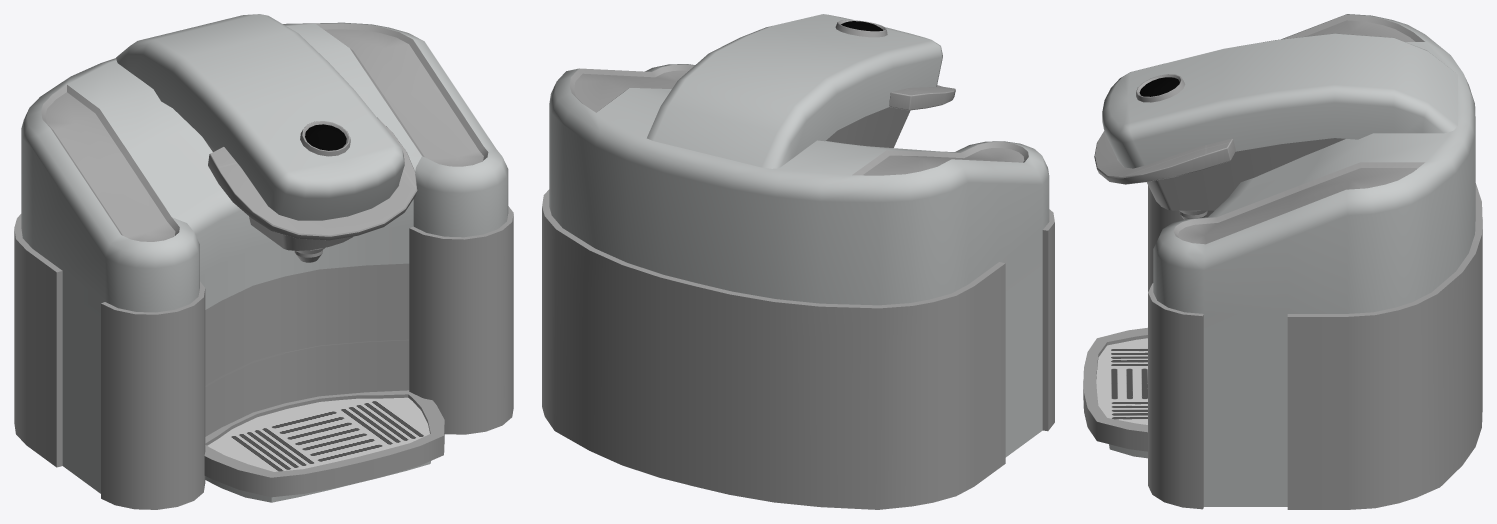
Rendered from coffee_machine_15.obj.
3 views of the same model, side by side, from view 1: azimuth 30°, elevation 25°; view 2: azimuth 150°, elevation 25°; view 3: azimuth 270°, elevation 25° (orthographic). The views are drawn at different scales.
Parts seen in each view (by area): view 1: coffee_machine_15; view 2: coffee_machine_15; view 3: coffee_machine_15.
Part boxes in pixels (left/top/right/bottom): coffee_machine_15: left=14, top=14, right=513, bottom=509; coffee_machine_15: left=542, top=14, right=1054, bottom=509; coffee_machine_15: left=1083, top=14, right=1482, bottom=509.
Bounding box in the file's own units: 0.5425 × 0.4511 × 0.4634.
